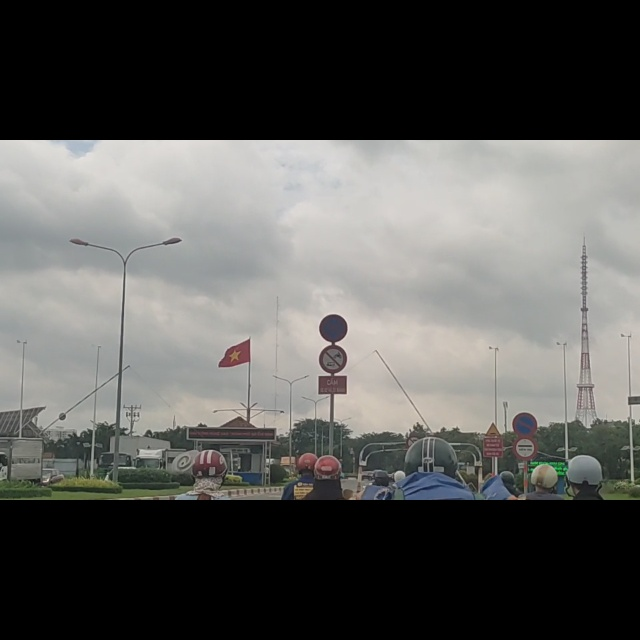bien_nguy_hiem: (318, 308, 348, 359), (319, 364, 347, 415), (512, 484, 538, 524), (513, 527, 537, 568), (484, 500, 501, 529)
